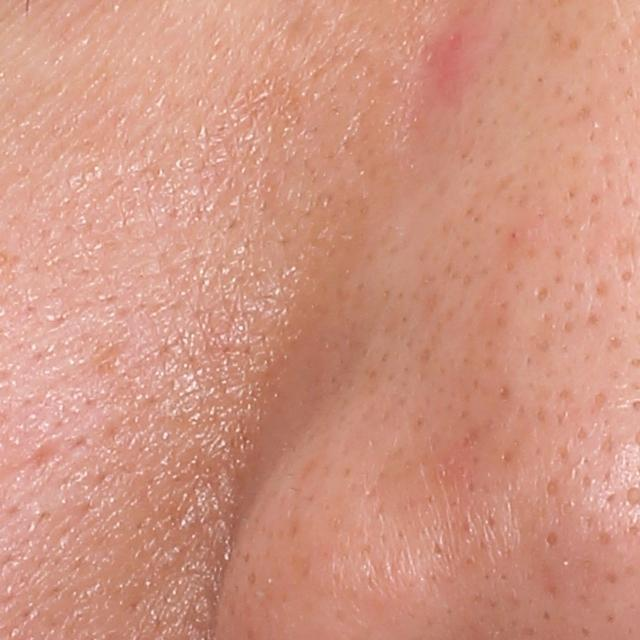comedo: (539, 524, 565, 551)
